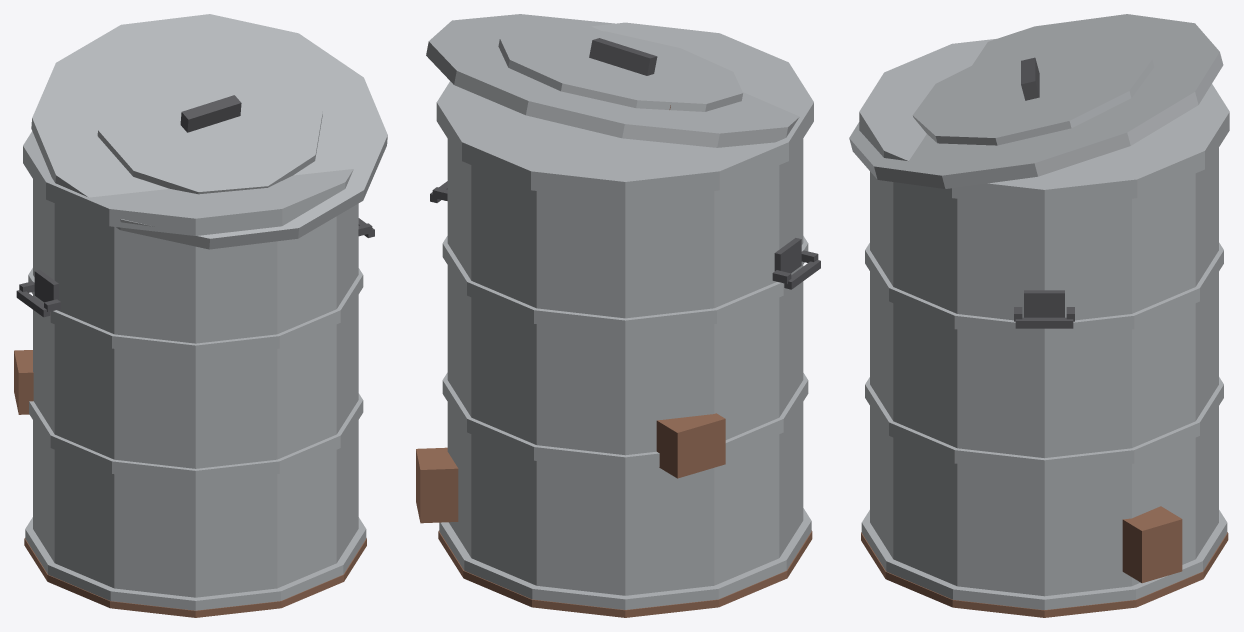
The model's file is trash_can.glb.
3 views of the same model, side by side, from view 1: azimuth 30°, elevation 25°; view 2: azimuth 150°, elevation 25°; view 3: azimuth 270°, elevation 25° (orthographic). The views are drawn at different scales.
Visible parts, largest first — view 1: Trash_Can; view 2: Trash_Can; view 3: Trash_Can.
Boxes of the visible parts, x1,y1,x2,y2 form: Trash_Can: [14, 14, 387, 617]; Trash_Can: [416, 14, 820, 617]; Trash_Can: [849, 14, 1229, 617].
Bounding box in the file's own units: 0.498 × 0.6603 × 0.4623.
